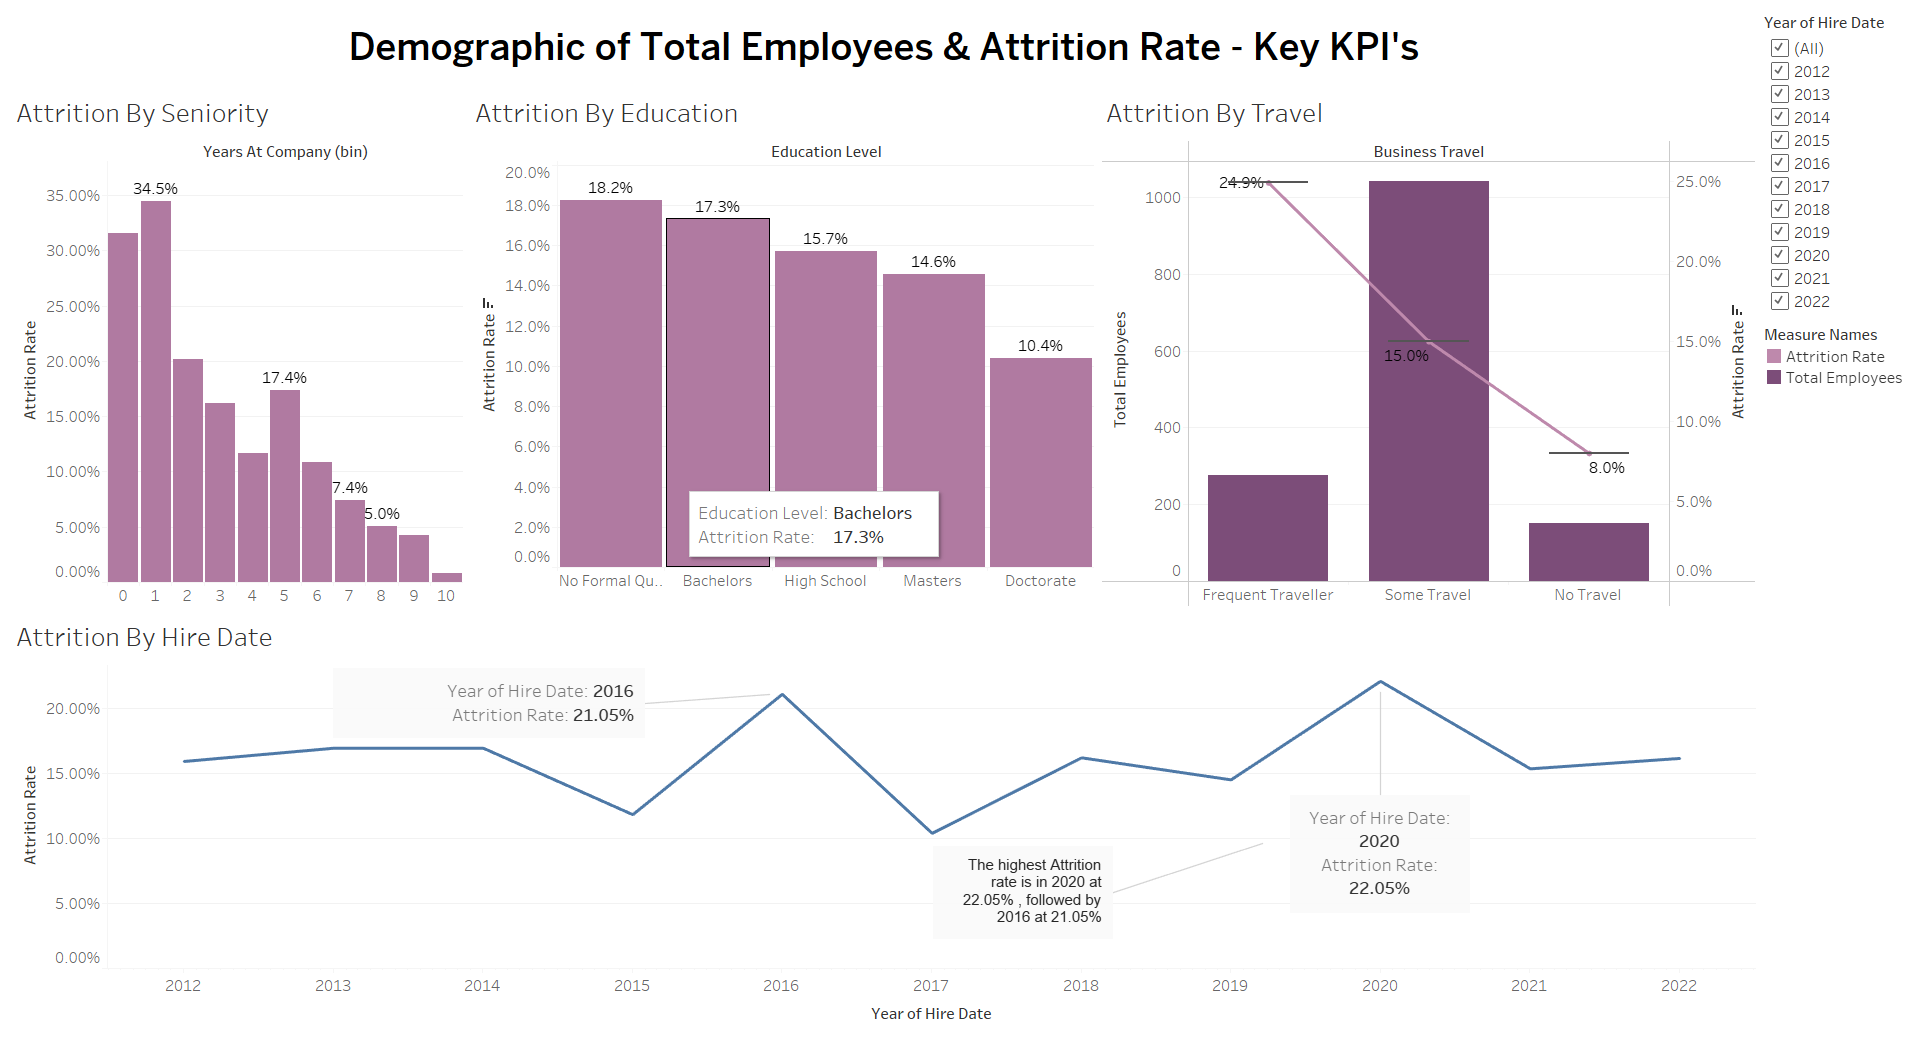

Layout of this report page (visuals, bound fields, positions):
{"tool":"tableau","page":{"name":"Dashboard_Attrition (2)","canvas":[1000,1000],"units":"permille","ordinal":1},"visuals":[{"type":"text","box":[4.2,9.4,911,75.2]},{"type":"filter","title":"Attrition By Hire Date","param":"[federated.0frj53509doeau1491p3512hju7g].[yr:HireDate:ok]","box":[915.2,9.4,80.5,366.6]},{"type":"worksheet","title":"Attrition By Seniority","mark":"Automatic","rows":["Calculation_3725884270483316739"],"cols":["Years At Company (bin)"],"box":[4.2,84.6,238.6,500.6]},{"type":"worksheet","title":"Attrition By Education","mark":"Automatic","rows":["Calculation_3725884270483316739"],"cols":["EducationLevel"],"box":[242.9,84.6,328.4,500.6]},{"type":"worksheet","title":"Attrition By Travel","mark":"Automatic","rows":["Calculation_3725884270481088512","Calculation_3725884270483316739"],"cols":["BusinessTravel"],"box":[571.2,84.6,344,500.6]},{"type":"legend","title":"Attrition By Travel","param":"[federated.0frj53509doeau1491p3512hju7g].[:Measure Names]","box":[915.2,376,80.5,84.6]},{"type":"worksheet","title":"Attrition By Hire Date","mark":"Automatic","rows":["Calculation_3725884270483316739"],"cols":["HireDate"],"box":[4.2,585.2,911,405.4]}]}

Visuals, with their boxes on the dashboard's canvas, which has no fixed pixel size, in thousandths of its width and height (x1, y1, x2, y2). These are canvas units, not pixel positions in the 1916x1039 screenshot, which may show the page scaled, cropped or inside an application window:
text: (left=4, top=9, right=915, bottom=85)
"Attrition By Hire Date" filter: (left=915, top=9, right=996, bottom=376)
"Attrition By Seniority" worksheet: (left=4, top=85, right=243, bottom=585)
"Attrition By Education" worksheet: (left=243, top=85, right=571, bottom=585)
"Attrition By Travel" worksheet: (left=571, top=85, right=915, bottom=585)
"Attrition By Travel" legend: (left=915, top=376, right=996, bottom=461)
"Attrition By Hire Date" worksheet: (left=4, top=585, right=915, bottom=991)
